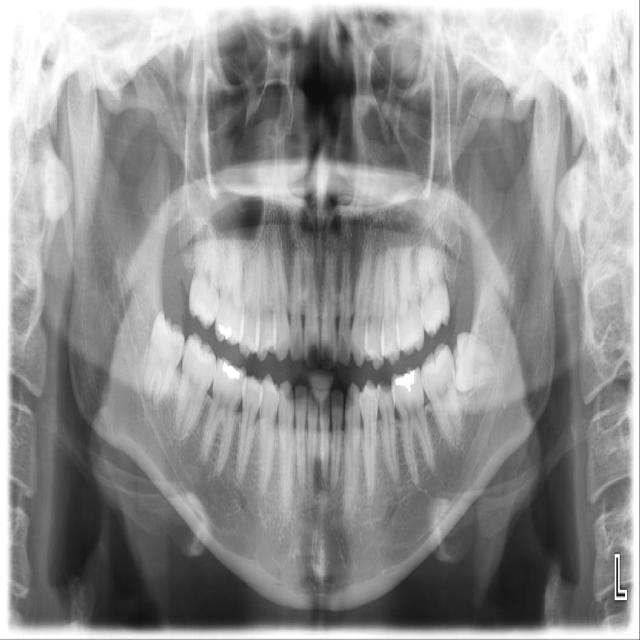Filling: (394, 367, 418, 394), (214, 319, 234, 339), (222, 361, 241, 380)
impacted tooth: (144, 314, 183, 407), (455, 334, 504, 389)
